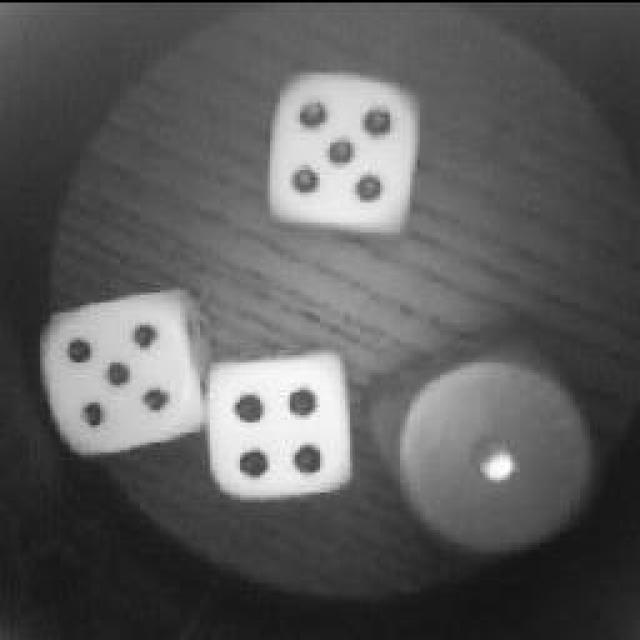dice_1: (368, 328, 610, 558)
dice_4: (197, 342, 355, 502)
dice_5: (260, 52, 432, 238), (32, 280, 208, 458)
